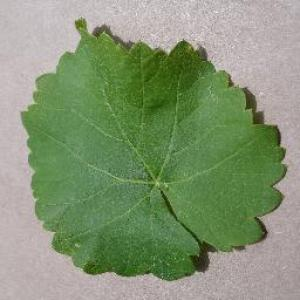Folha: (20, 16, 287, 282)
